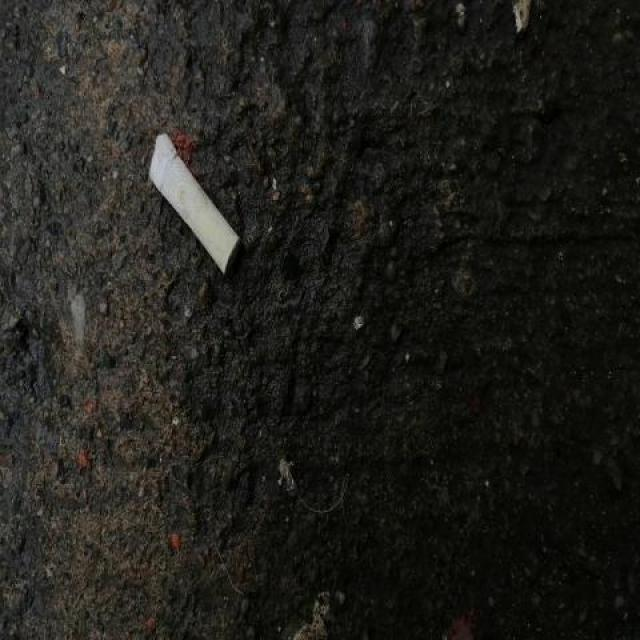non-organic waste: (144, 130, 245, 282)
